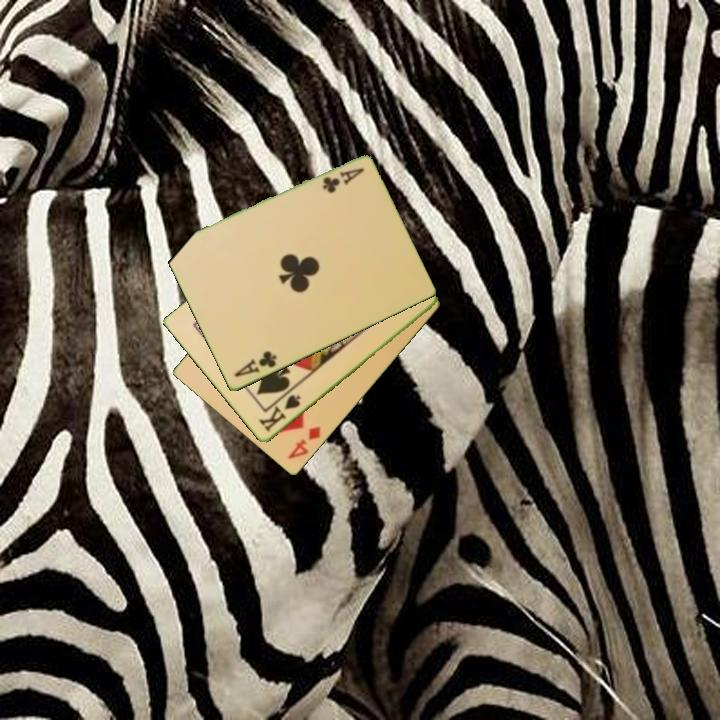4d: (284, 423, 324, 462)
Ac: (231, 347, 280, 380), (319, 164, 367, 196)
Ks: (255, 391, 304, 436)
